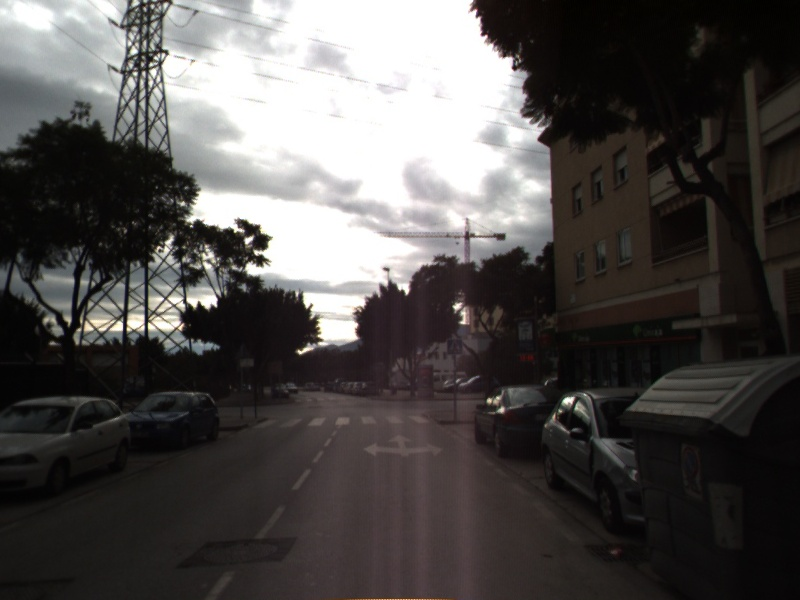STRAIGHT_LEFT_RIGHT: (361, 432, 446, 459)
